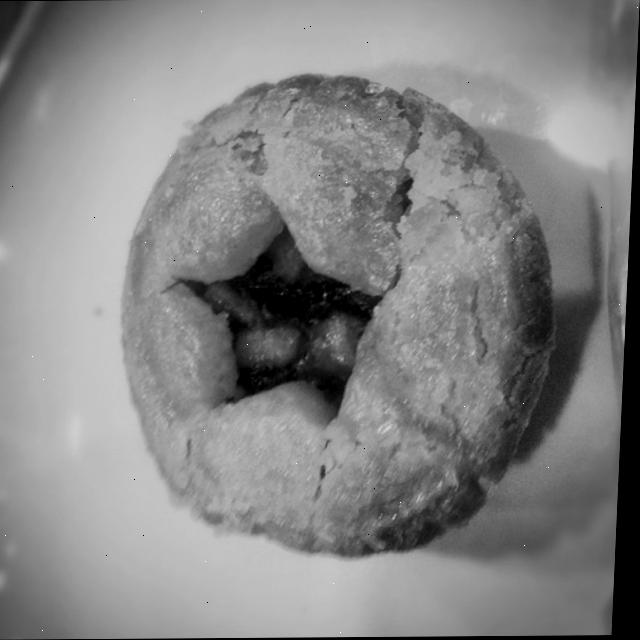炸货点心: (79, 45, 611, 582)
蛋糕甜品: (79, 45, 611, 582)
